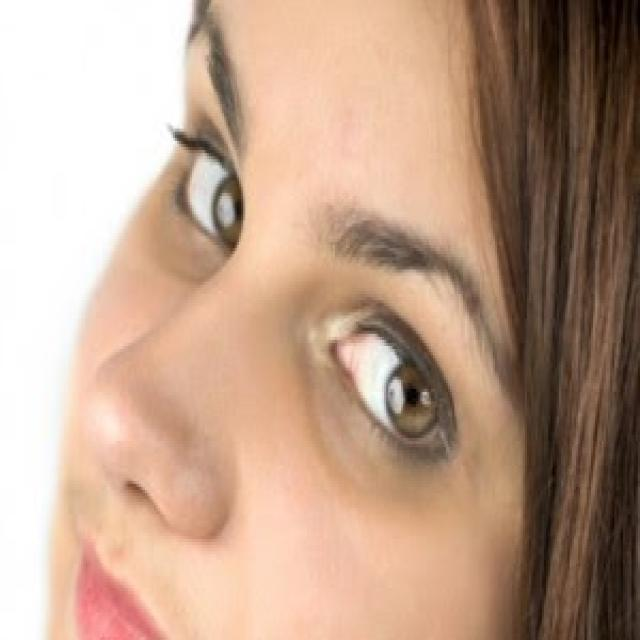Eyebags: (283, 269, 461, 532), (136, 106, 245, 290)
